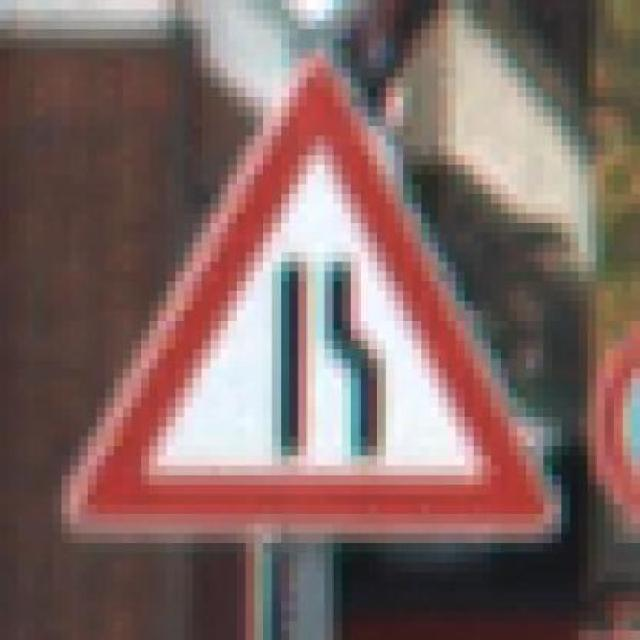-Road narrows on right: (58, 50, 558, 555)
